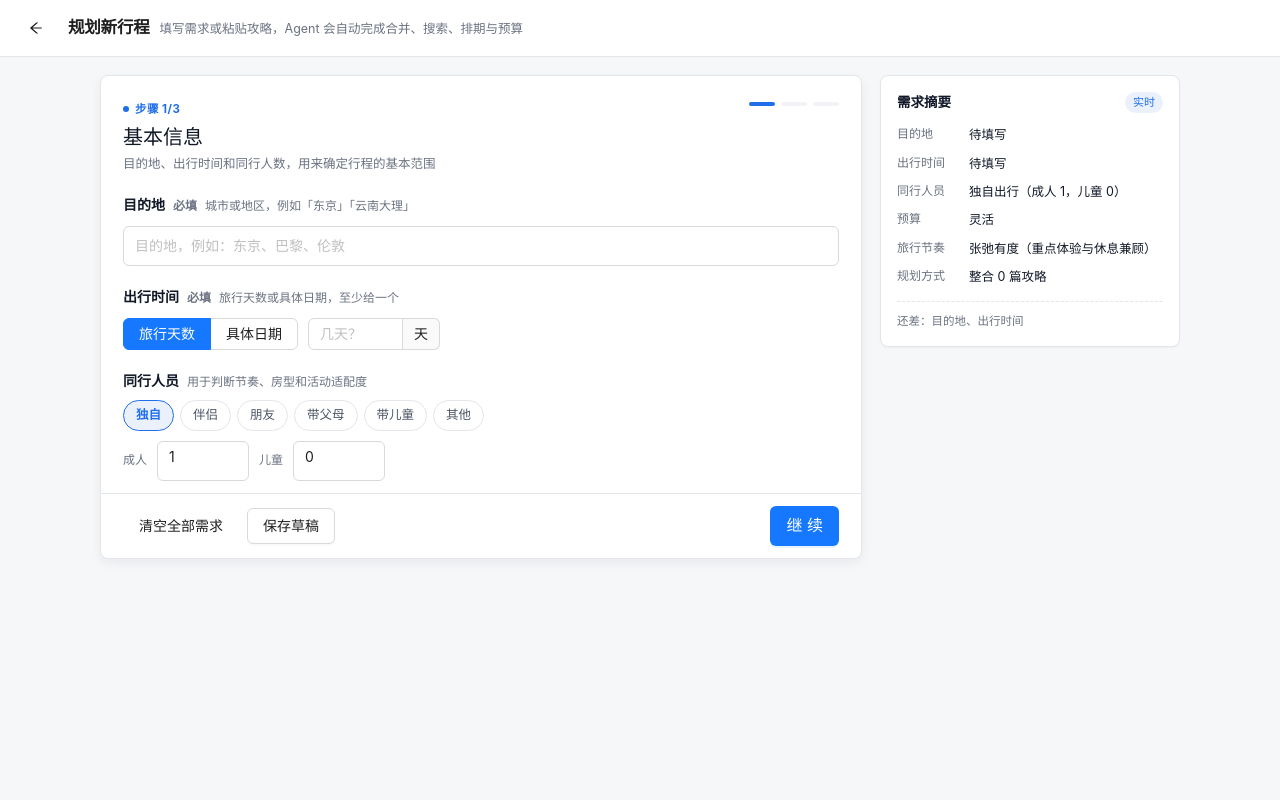
Scenario: Planner · 三步流程与门禁 › 第 1 步只填目的地、没给出行时间时提示「请填写出行时间」
This screenshot has width=1280, height=800.
Type "上海" into the field with test id "planner-destination" at (481, 246), box [123,226,839,266]
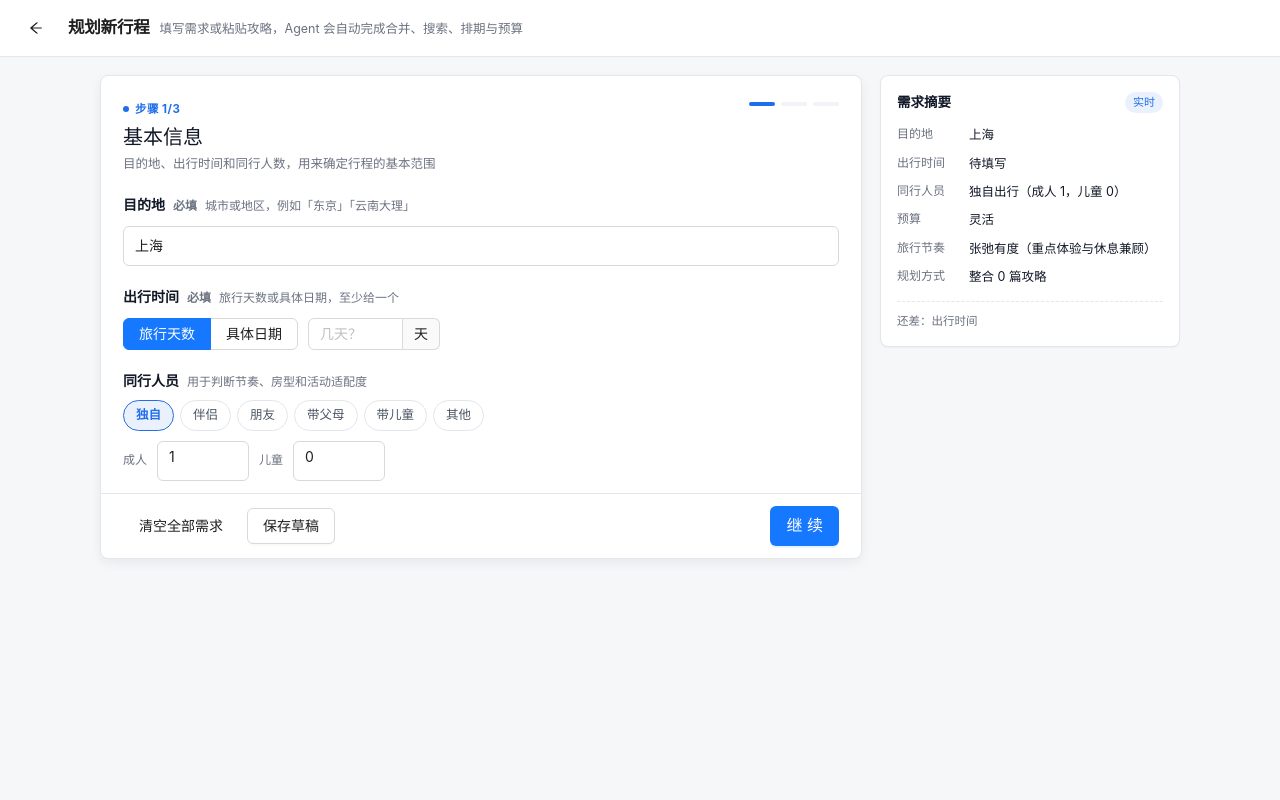
Click the button with test id "planner-next" at (805, 526), box [770,506,839,546]
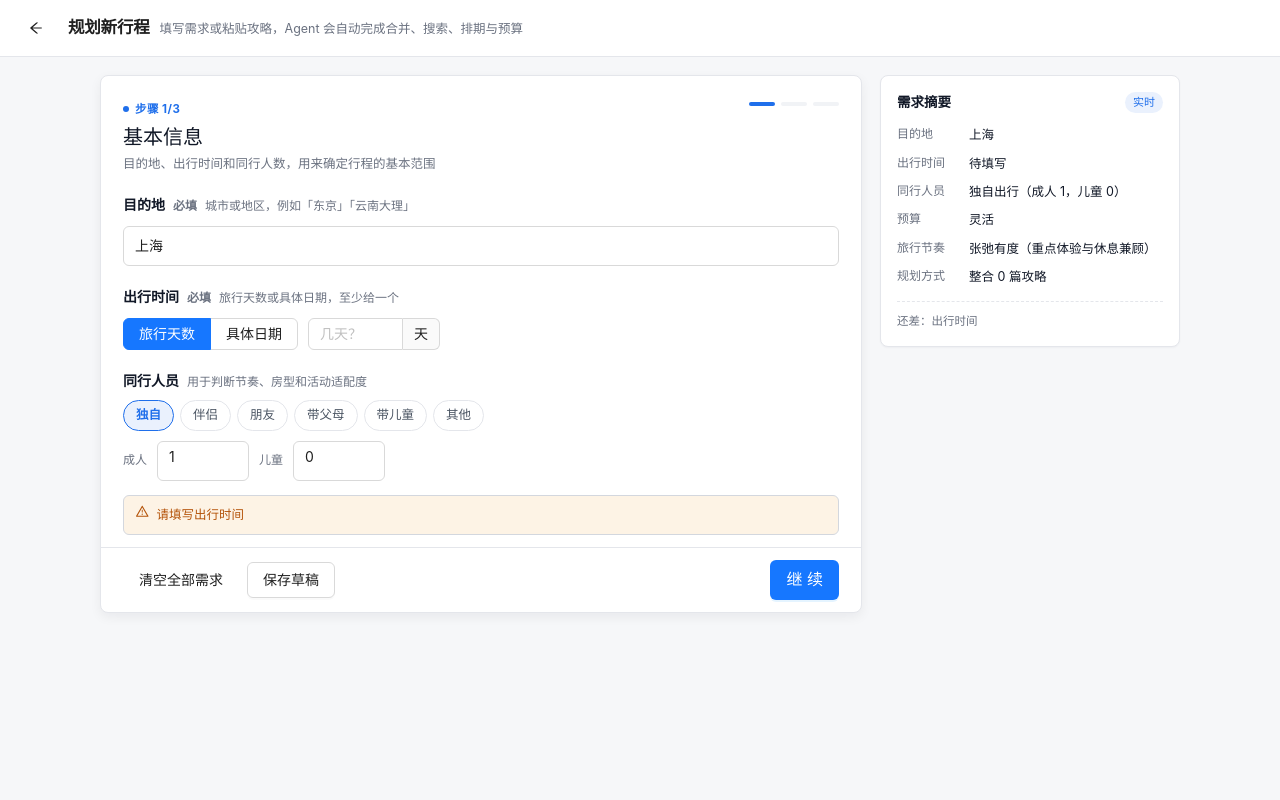
Check: the text with test id "planner-step-indicator" reads "步骤 1/3", box [123,100,180,118]
Check: the message with test id "planner-required-hint" reads "请填写出行时间", box [156,507,244,522]
